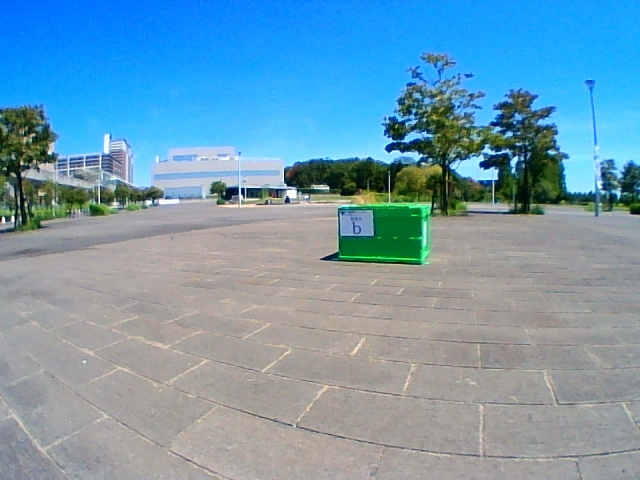green_box: (338, 204, 428, 265)
tag_b: (340, 210, 374, 236)
